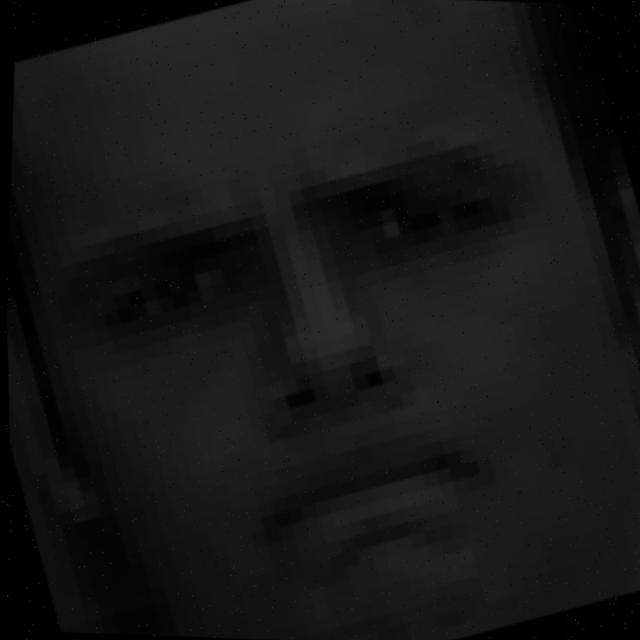Disgust: (19, 115, 640, 558)
